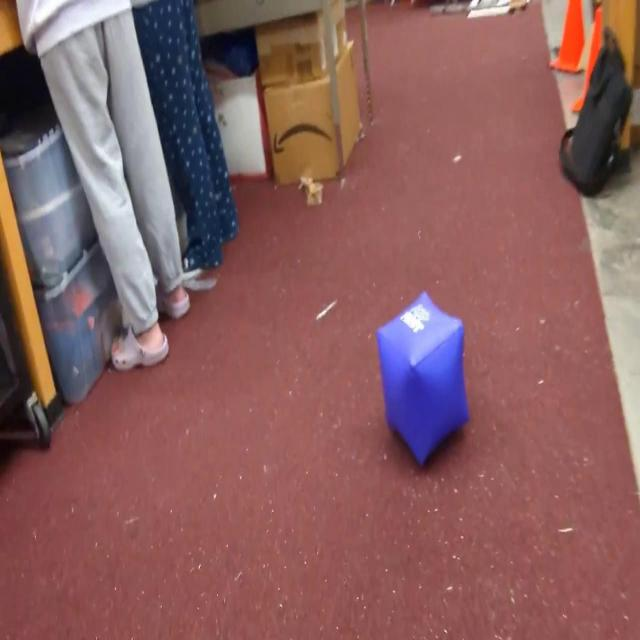frc_cube: (376, 292, 471, 468)
